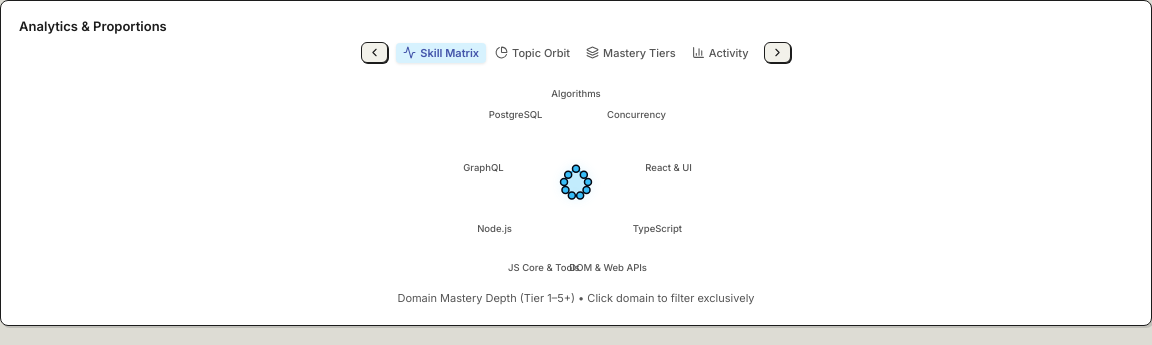
Scenario: Activity as the fourth mode of the stats widget › shows the activity view with data when the tab is clicked
Click the button "Activity".
click(720, 52)  # box [685,42,756,62]
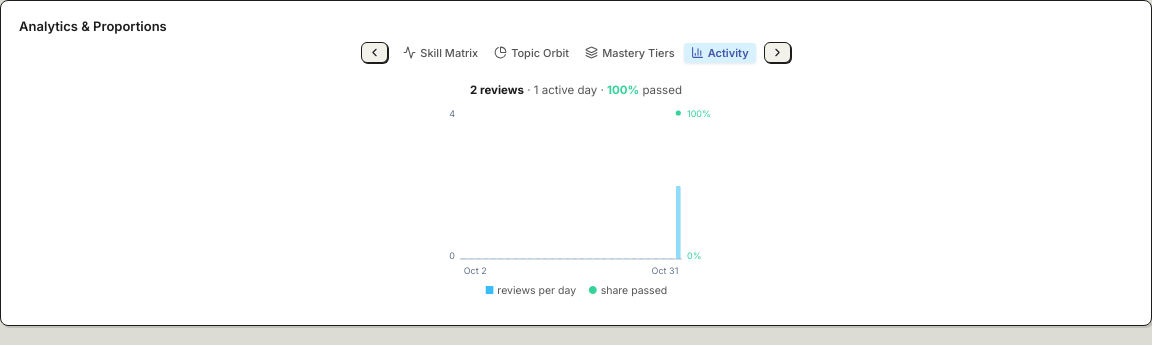
Now the element showing "2 reviews · 1 active day · 100% passed" is shown, box [470,82,682,99]
